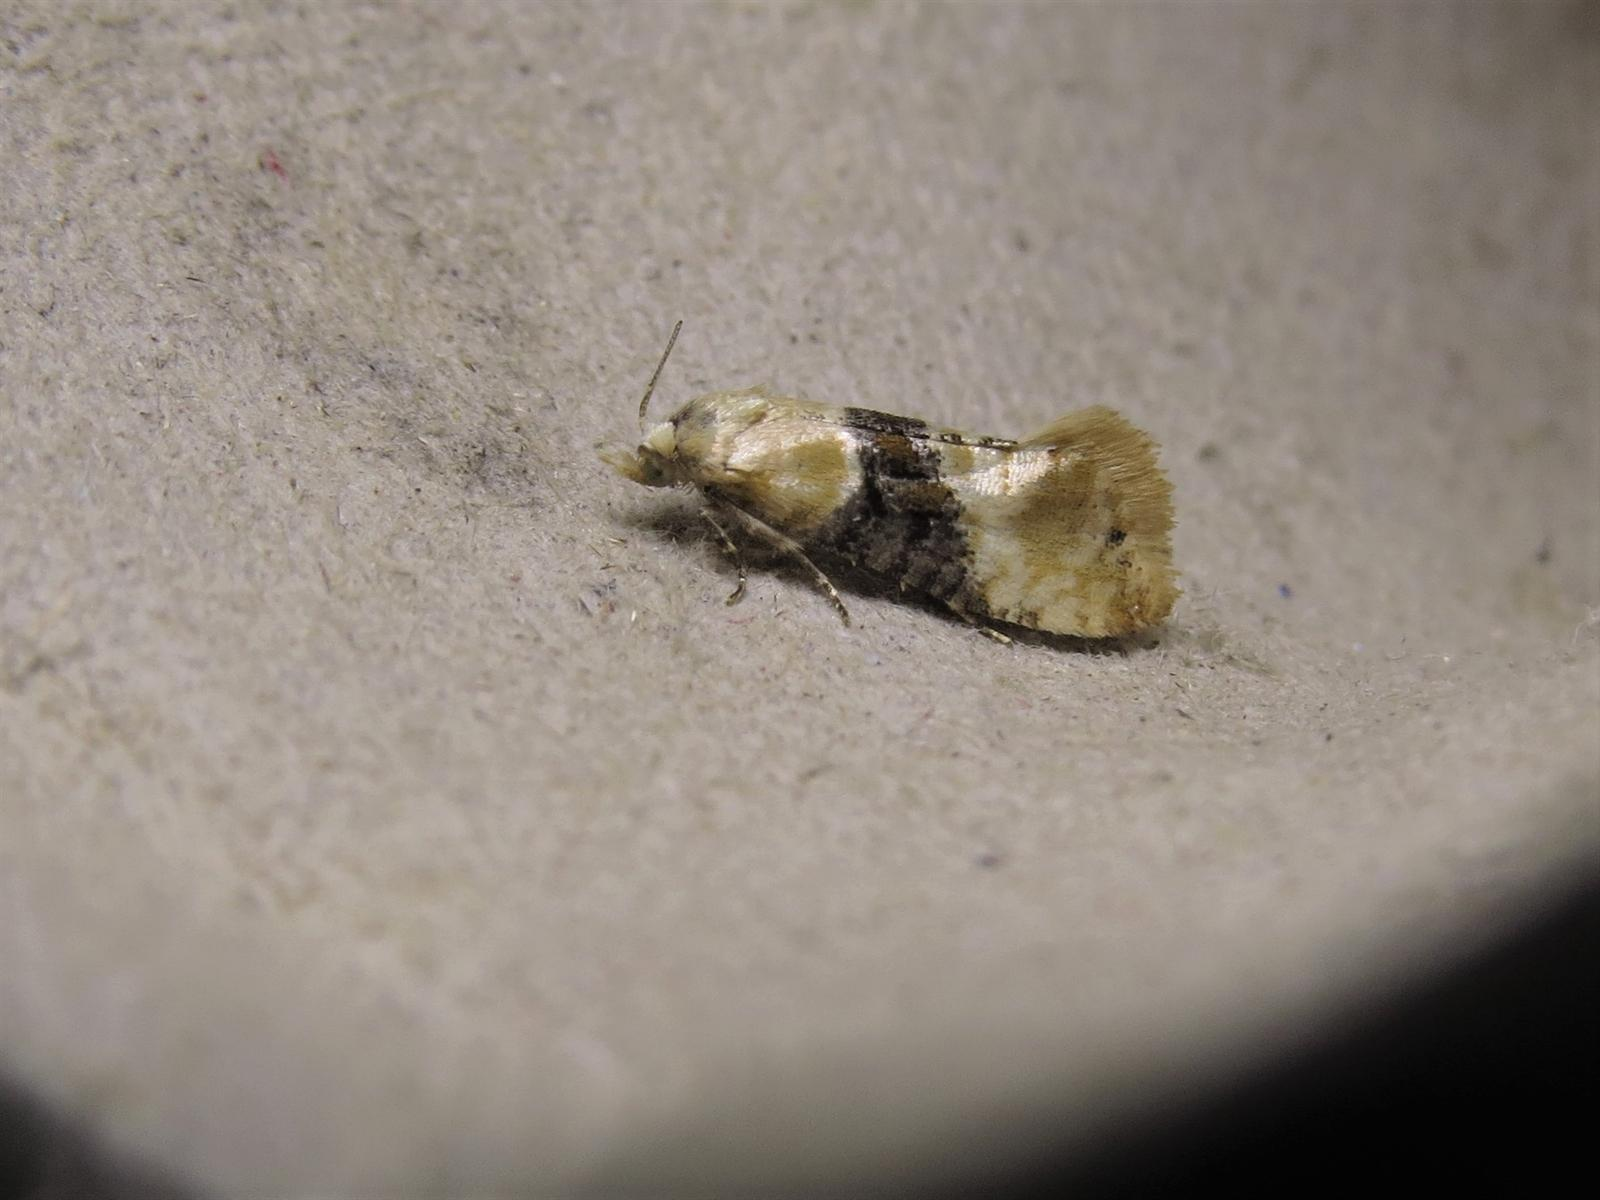Eupoecilia Ambiguella: (592, 315, 1184, 654)
